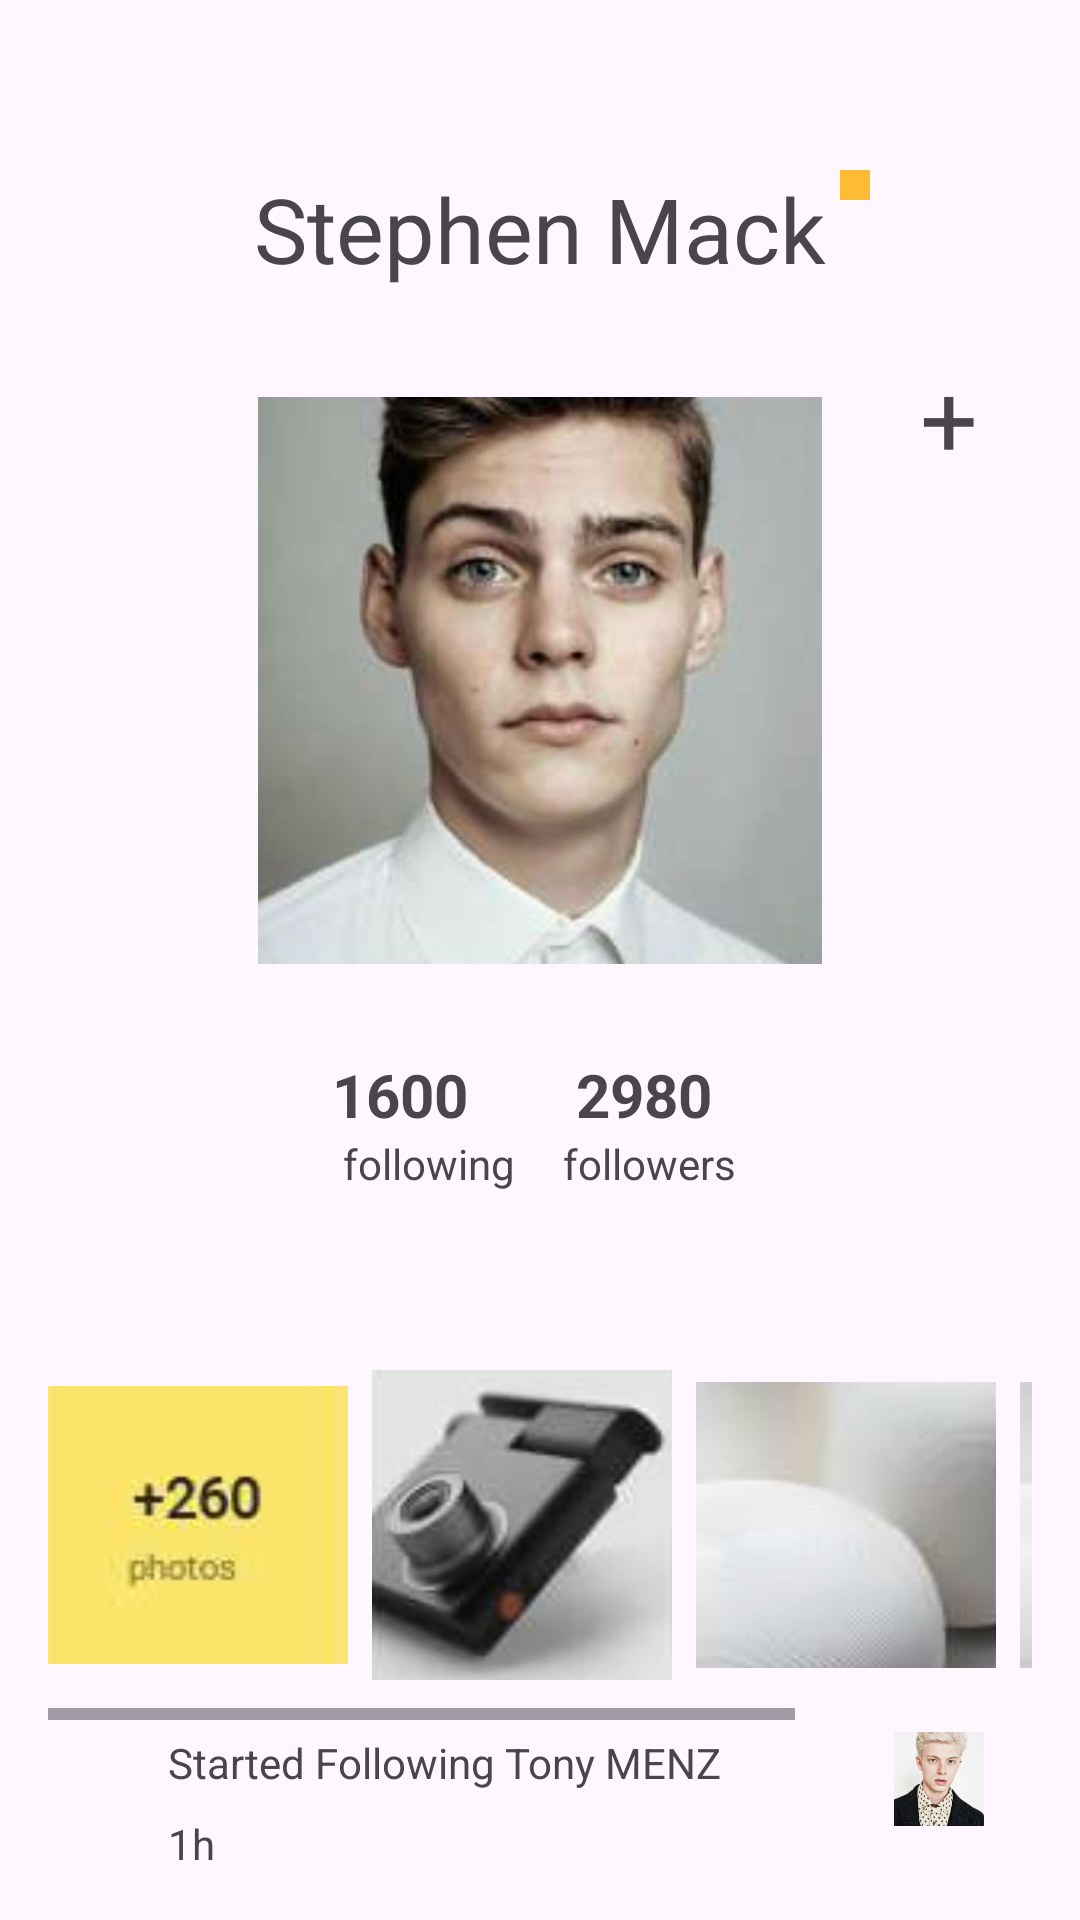

Where icons sit on this 1080 x 1920 app screen, as (x1, y1, x2, y2):
camerablack: (372, 1370, 672, 1680)
